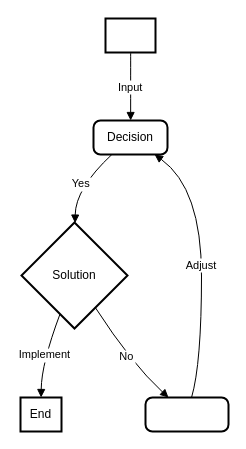
This 246x449 diagram has some shape labels left out. The centre of each missing label's shape, as x and y in pixels:
"Feedback" goes at point 186,414.
"Start" goes at point 130,35.
